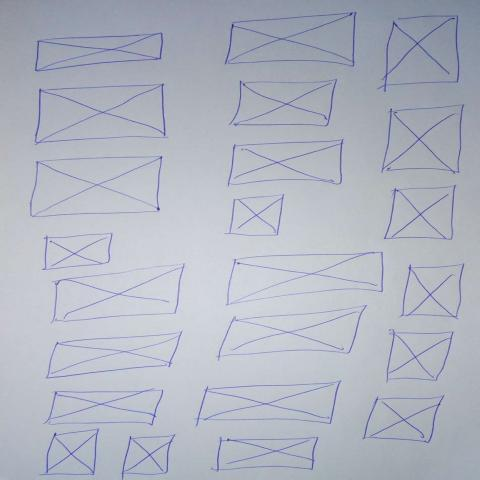Image: (224, 251, 385, 306), (28, 155, 163, 218), (216, 304, 368, 359), (34, 83, 167, 144), (50, 269, 188, 324), (224, 12, 358, 68), (45, 330, 184, 379), (196, 379, 343, 425), (379, 103, 465, 174), (226, 138, 346, 187), (383, 14, 460, 88), (228, 78, 338, 127), (34, 32, 164, 71), (42, 388, 165, 425), (360, 394, 445, 444), (214, 436, 318, 472), (398, 263, 466, 318), (385, 330, 455, 382), (42, 232, 114, 270), (44, 428, 100, 476), (226, 194, 284, 236), (120, 434, 177, 475)
